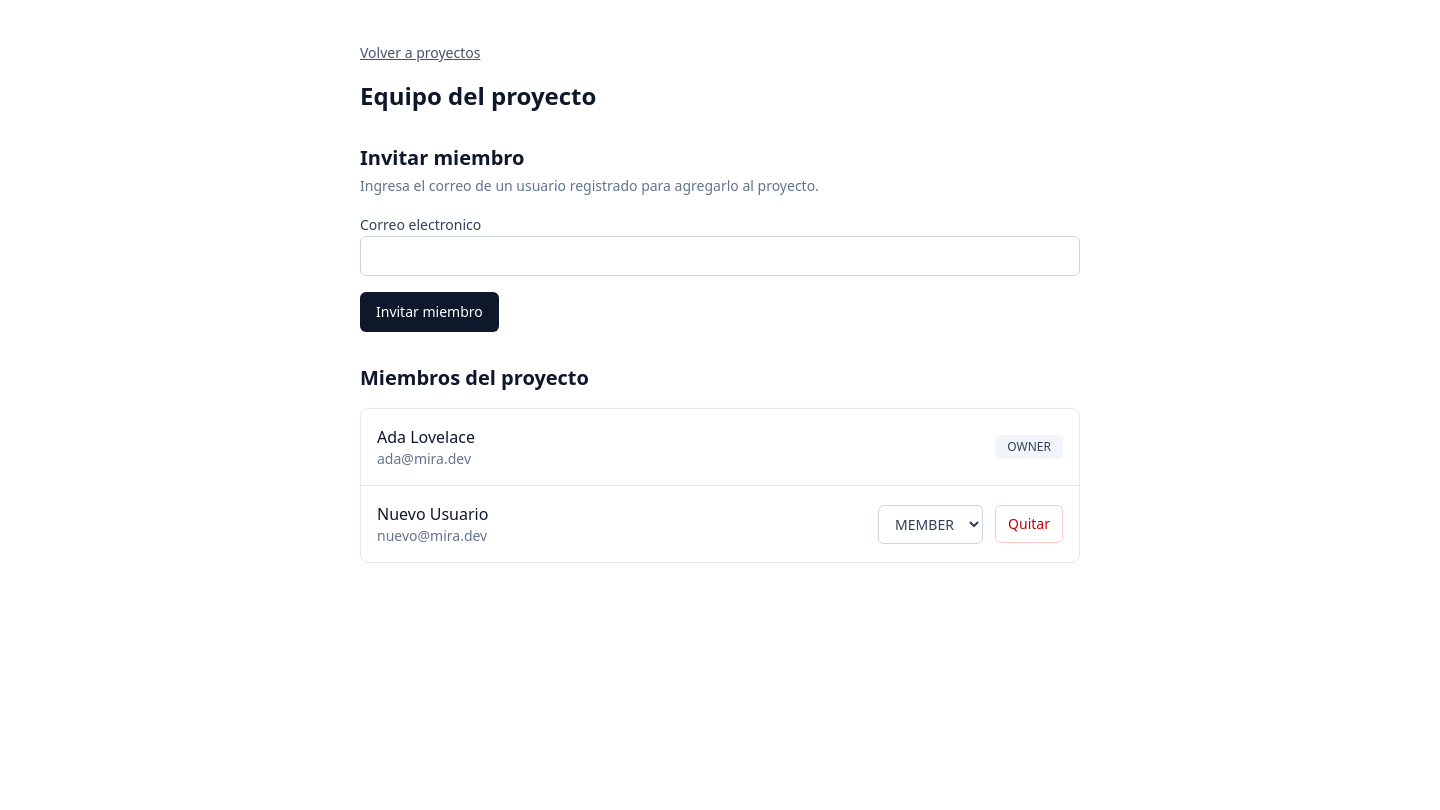
Test: ProjectMembersPage - MIR-10 › permite cancelar la eliminacion de un miembro
The image size is (1440, 810).
Check: the text "Nuevo Usuario" is shown, box top-left (377, 503), bottom-right (488, 525)
Step 1. Click the button "Quitar" → (1029, 524), box top-left (995, 505), bottom-right (1063, 543)
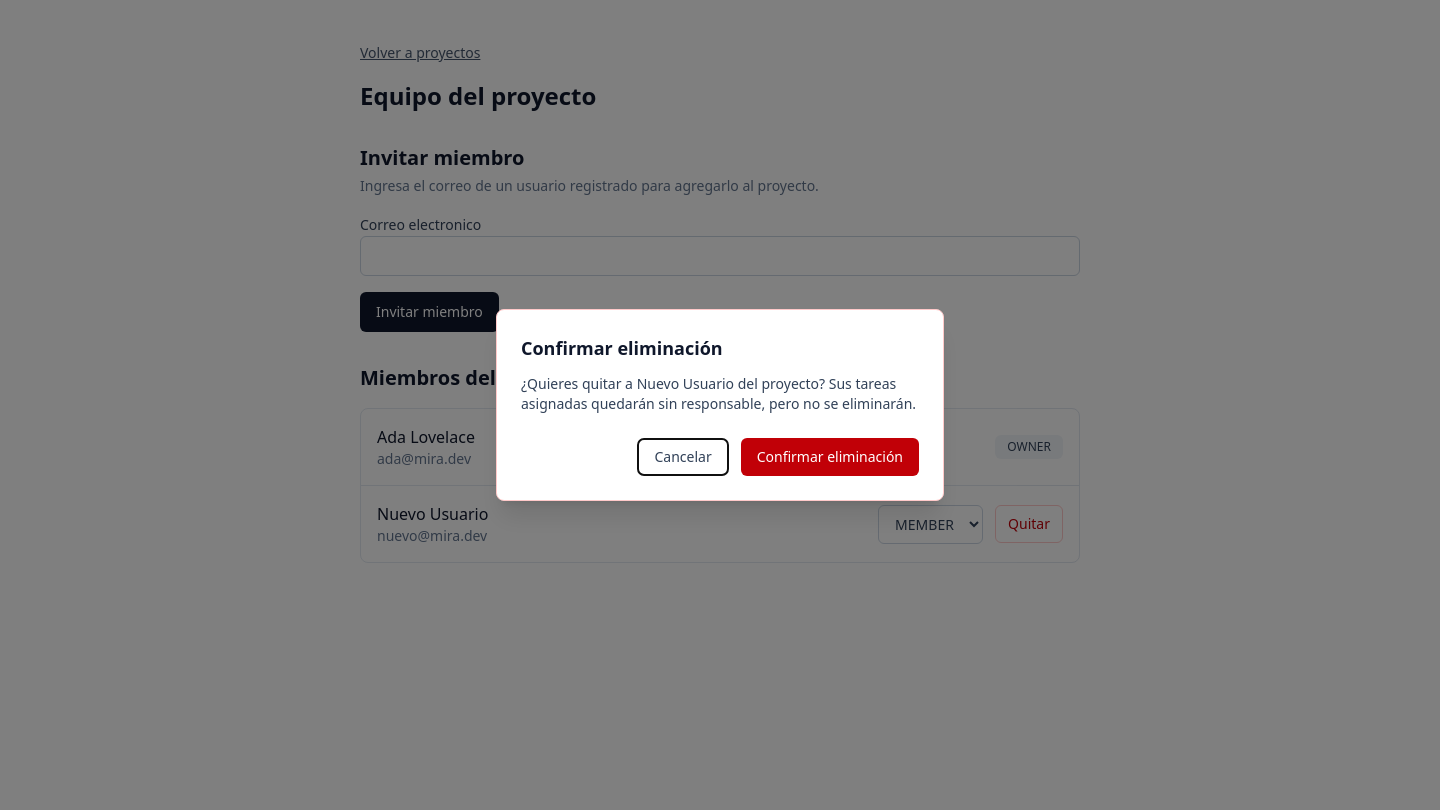
Check: the dialog is shown, box top-left (496, 309), bottom-right (944, 501)
Step 2. Click the button "Cancelar" → (683, 457), box top-left (638, 438), bottom-right (729, 476)
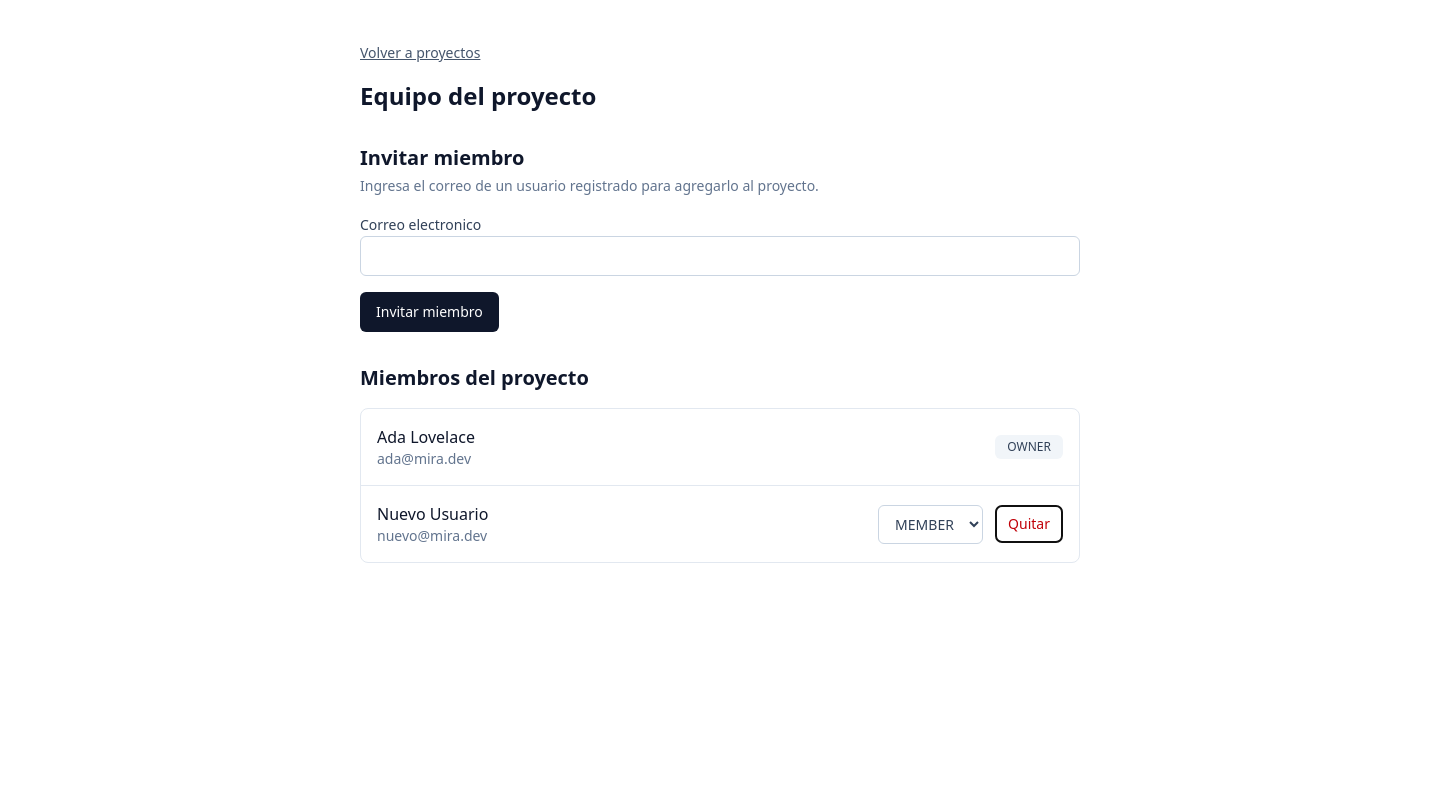
Check: the text "Nuevo Usuario" is shown, box top-left (377, 503), bottom-right (488, 525)
Check: the dialog is gone
